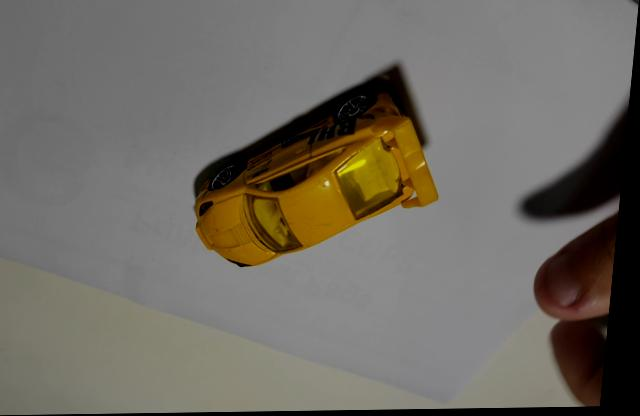07_RHLTURBO: (198, 91, 442, 267)
